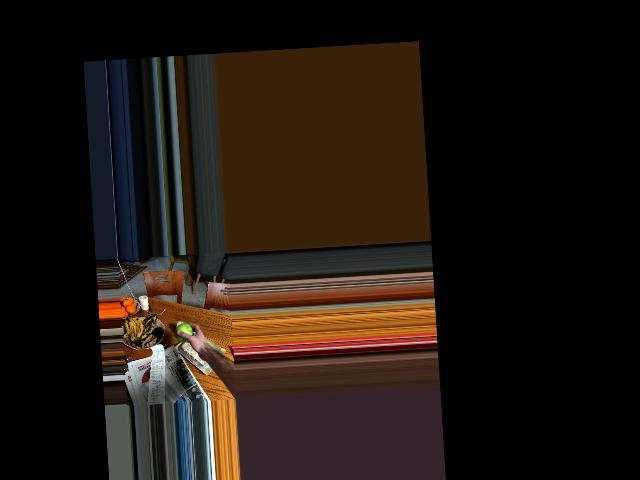apple: (174, 321, 195, 344)
